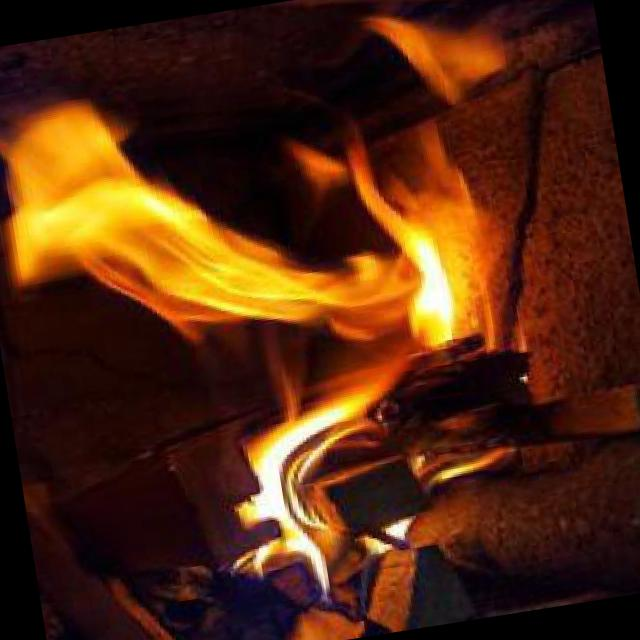Smoke: (0, 1, 526, 601)
